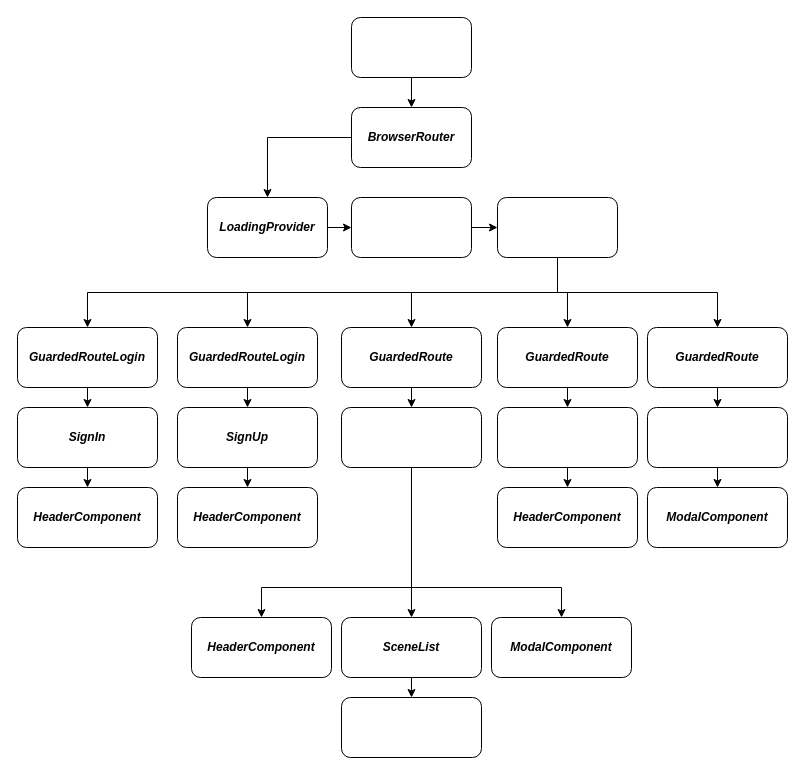
The diagram is 805 pixels wide and 775 high, and some of its shapes have lost their labels. Here are the shapes that lost their labels. From the top down, the centre of each, then its label:
(411,47): App
(411,227): SceneProvider
(557,227): AuthProvider
(411,437): MainPageComponent
(567,437): ConfigComponent
(717,437): EditorComponent
(411,727): SceneListItem
